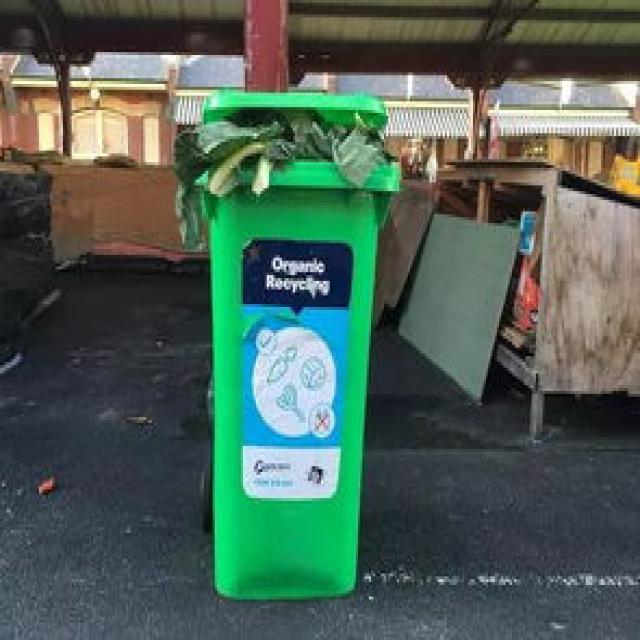overflow: (171, 87, 397, 596)
